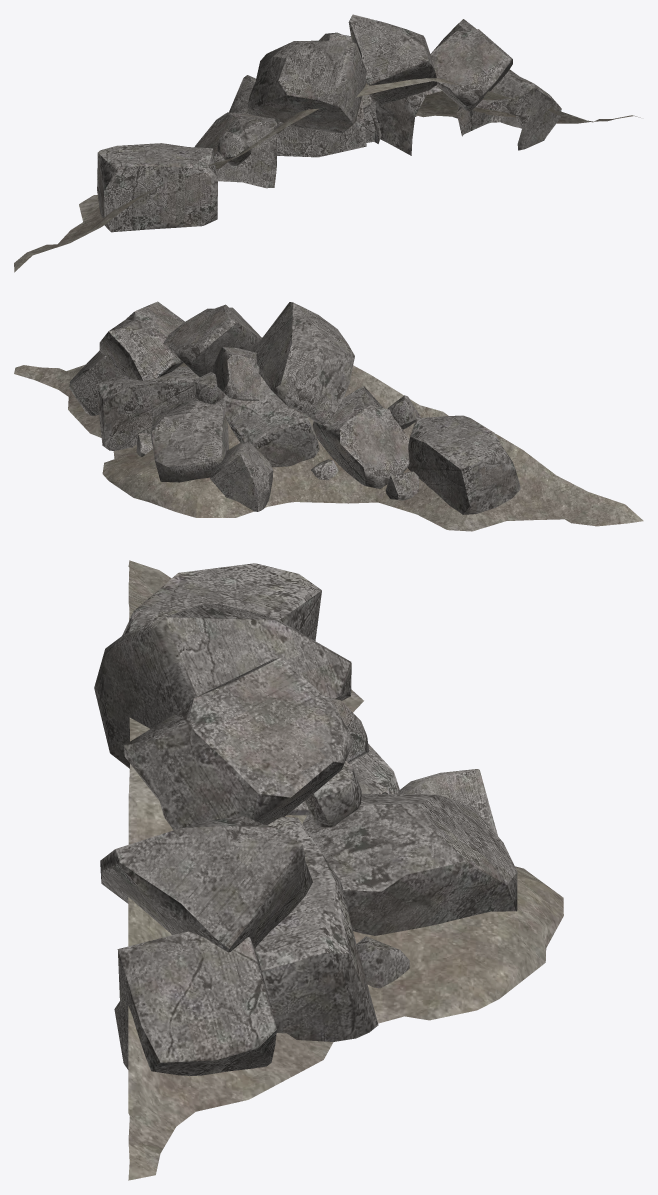
3 renders of one model, top to bottom at view 1: azimuth 30°, elevation 25°; view 2: azimuth 150°, elevation 25°; view 3: azimuth 270°, elevation 25°, orthographic. The views are drawn at different scales.
Visible parts, largest first — view 1: SM_Rubble01_LOD0; view 2: SM_Rubble01_LOD0; view 3: SM_Rubble01_LOD0.
Boxes of the visible parts, x1,y1,x2,y2 form: SM_Rubble01_LOD0: (14, 14, 640, 272); SM_Rubble01_LOD0: (14, 301, 643, 531); SM_Rubble01_LOD0: (94, 560, 563, 1180).
Bounding box in the file's own units: 3.07 × 0.662 × 0.9928.
1 material, 1 textured.
